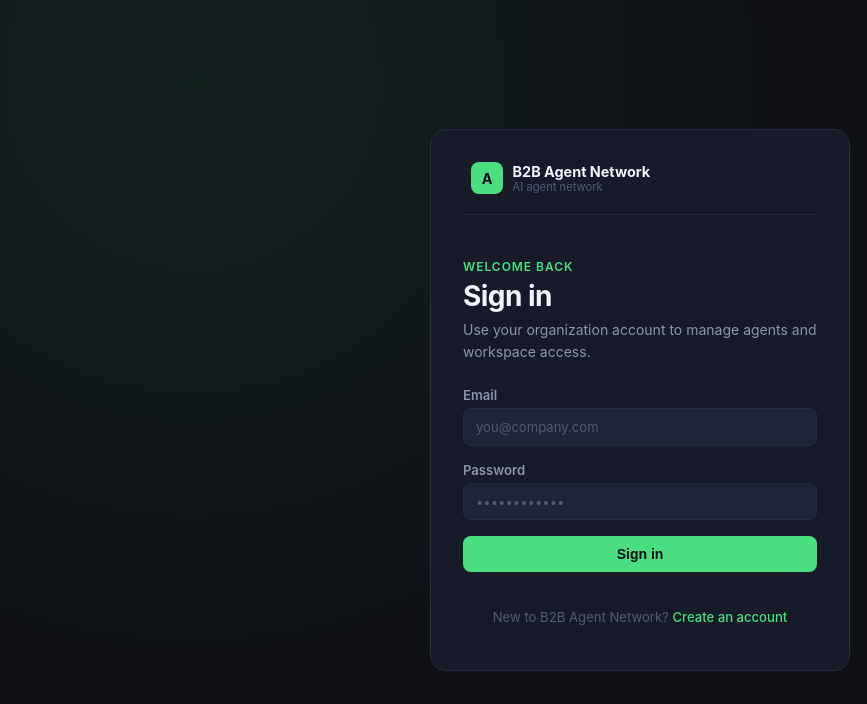
Test: authentication flow › shows the API error message when credentials are rejected
Step 1. Type "owner@example.test" into the field labelled "Email" → coordinates (640, 427), box [463, 408, 817, 446]
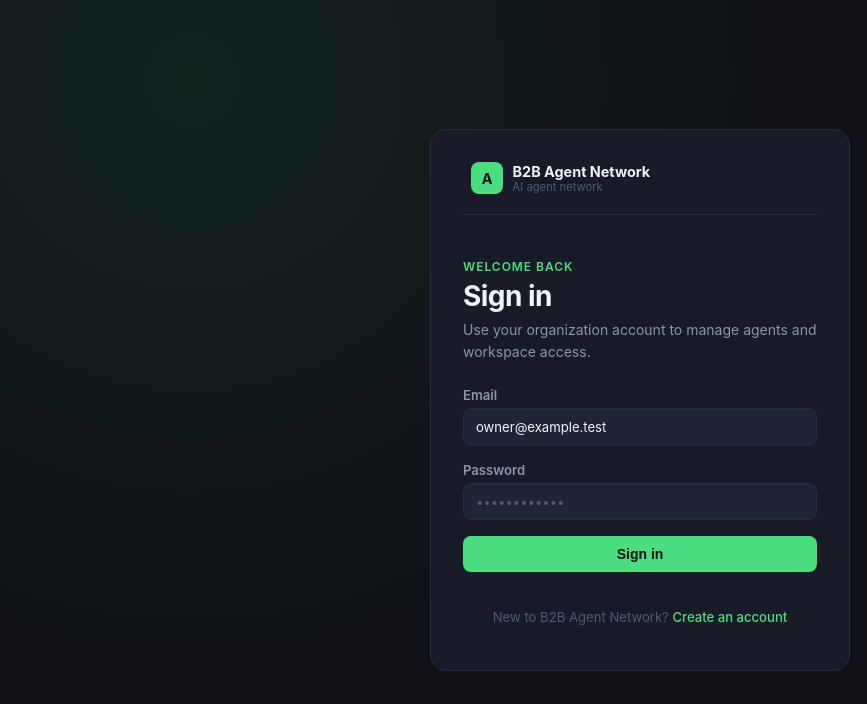
Step 2. Type "correct horse battery staple" into the password field labelled "Password" → coordinates (640, 502), box [463, 483, 817, 520]
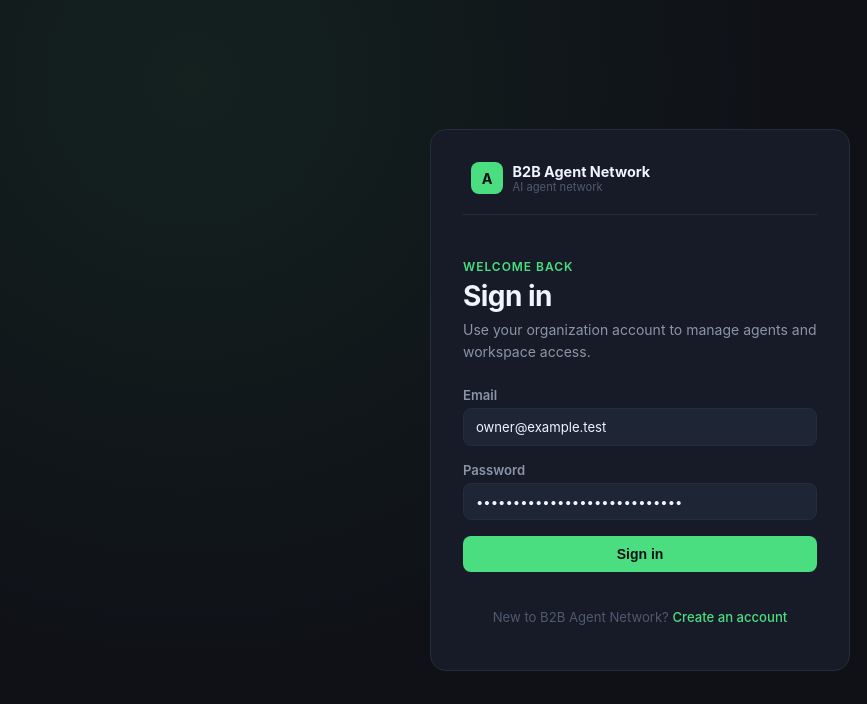
Step 3. Click the button "Sign in" → coordinates (640, 554), box [463, 536, 817, 572]
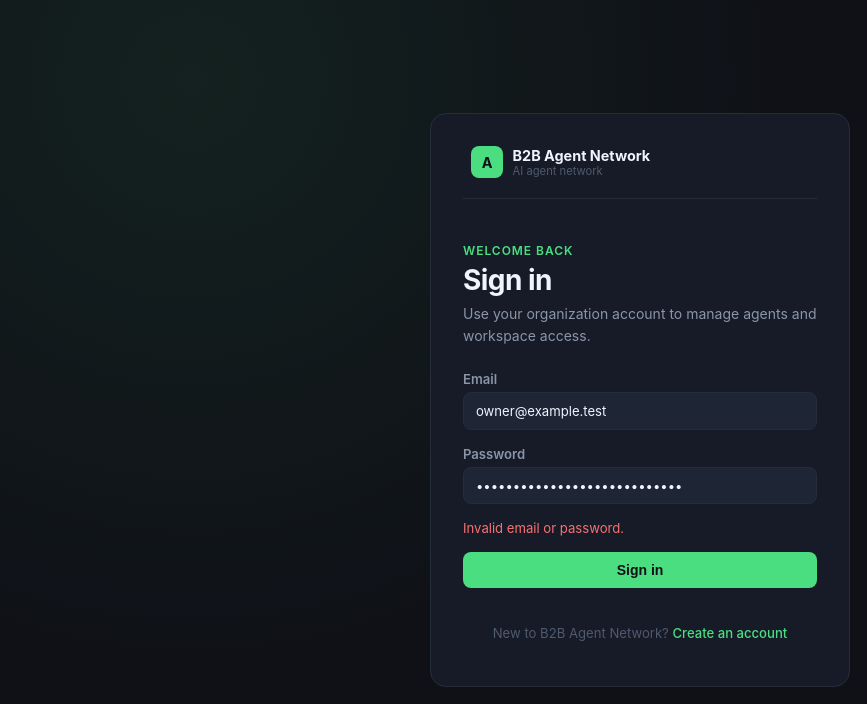
Now the message reads "Invalid email or password.", box [463, 520, 624, 536]
